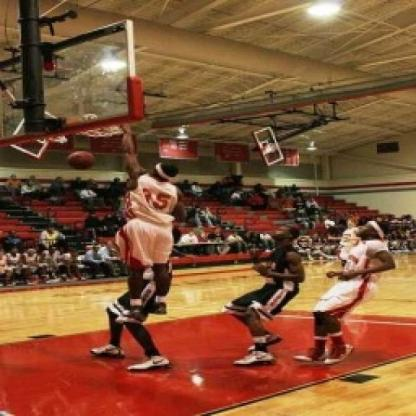basketball: (67, 146, 97, 178)
